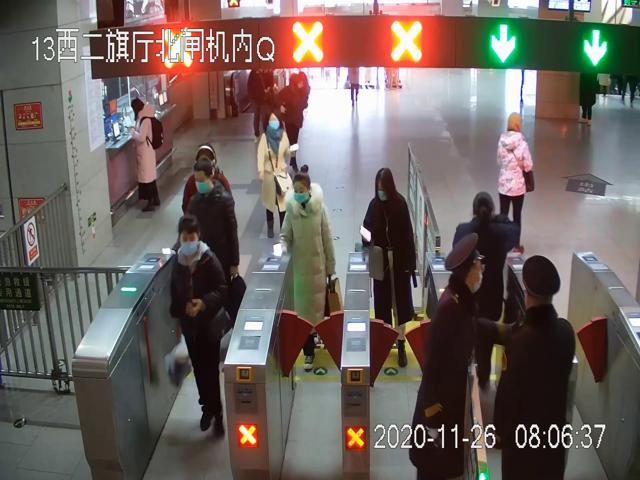person: (410, 232, 484, 480), (172, 216, 229, 437), (282, 164, 341, 370), (362, 168, 419, 367), (187, 160, 242, 320), (497, 111, 533, 255), (256, 105, 292, 239), (125, 96, 165, 213)
